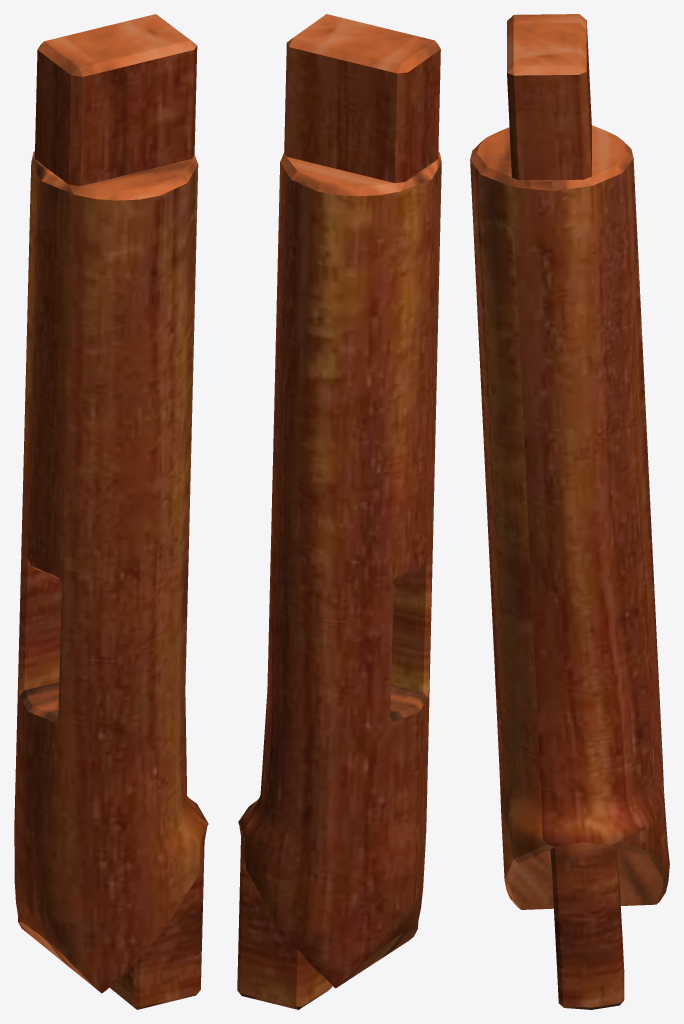
The model's file is ytsy_J_shugan_019.FBX.
3 renders of one model, left to right at view 1: azimuth 30°, elevation 25°; view 2: azimuth 150°, elevation 25°; view 3: azimuth 270°, elevation 25°, orthographic. The views are drawn at different scales.
Visible parts, largest first — view 1: ytsy_J_shugan_019; view 2: ytsy_J_shugan_019; view 3: ytsy_J_shugan_019.
Part boxes in pixels (x1,y1,x2,y2): ytsy_J_shugan_019: [14, 14, 208, 1009]; ytsy_J_shugan_019: [237, 14, 441, 1009]; ytsy_J_shugan_019: [470, 14, 669, 1009].
Size of the model in its own units: 2.29 by 12.5 by 2.44.
